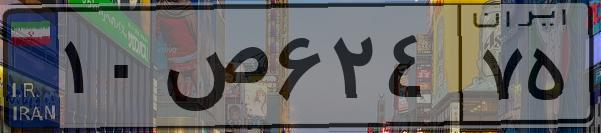0: (110, 28, 158, 98)
1: (57, 26, 110, 100)
2: (330, 28, 385, 110)
4: (385, 28, 445, 110)
5: (525, 38, 570, 115)
6: (270, 28, 330, 110)
7: (475, 38, 525, 113)
ص: (158, 20, 270, 120)
